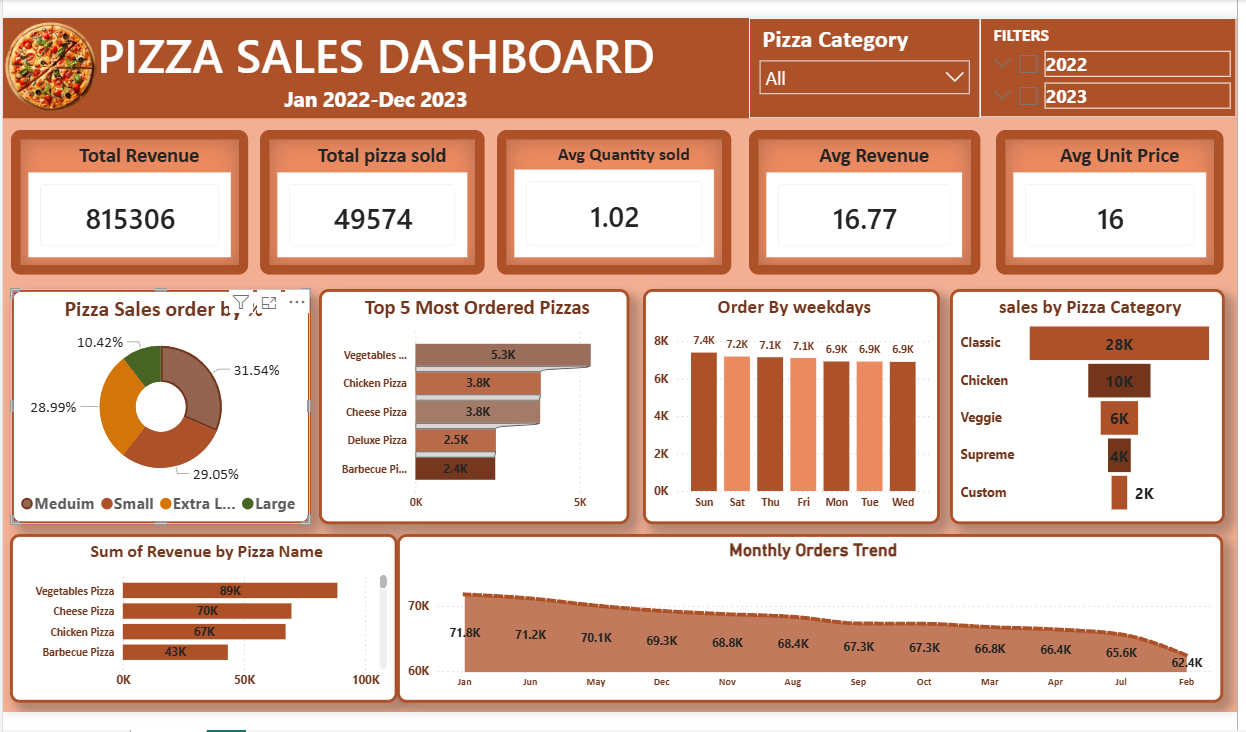

What the dashboard file says about the page in this screenshot:
{"tool":"powerbi","page":{"name":"Page 1","canvas":[1280,720],"ordinal":0},"visuals":[{"type":"textbox","box":[0,0,774,104.2],"z":0},{"type":"image","box":[0,0,100.2,104.3],"z":1000},{"type":"slicer","fields":{"Values":["Table1 (2).Pizza Category"]},"box":[774,0,239.8,104.2],"z":2000},{"type":"slicer","fields":{"Values":["Table1 (2).Year","Table1 (2).Mon Name"]},"box":[1013.7,0,266.3,102.5],"z":3000},{"type":"cardVisual","title":"Total Revenue","fields":{"Data":["Sum(Table1 (2).Revenue)"]},"box":[8.3,115.8,246.4,150.5],"z":4000},{"type":"cardVisual","title":"Avg Revenue","fields":{"Data":["Avg(Table1 (2).Revenue)"]},"box":[774,115.8,239.8,150.5],"z":5000},{"type":"cardVisual","title":"Avg  Quantity sold","fields":{"Data":["Avg(Table1 (2).Quantity Sold)"]},"box":[512.7,115.8,243.1,150.5],"z":6000},{"type":"cardVisual","title":"Avg Unit Price","fields":{"Data":["Avg(Table1 (2).Unit Price)"]},"box":[1030.3,115.8,236.5,150.5],"z":7000},{"type":"cardVisual","title":"Total pizza sold","fields":{"Data":["Sum(Table1 (2).Quantity Sold)"]},"box":[266.3,115.8,233.2,150.5],"z":8000},{"type":"donutChart","title":"Pizza Sales order by %","fields":{"Category":["Table1 (2).Pizza Size"],"Y":["Sum(Table1 (2).Quantity Sold)"]},"box":[8.2,281.2,310.6,243.5],"z":9000},{"type":"barChart","title":"Top 5 Most Ordered Pizzas","fields":{"Category":["Table1 (2).Pizza Name"],"Y":["Sum(Table1 (2).Quantity Sold)"]},"box":[328.2,281.2,322.4,243.5],"z":10000},{"type":"clusteredColumnChart","title":"Order By weekdays","fields":{"Y":["Sum(Table1 (2).Quantity Sold)"],"Category":["Table1 (2).Day Name"]},"box":[663.5,281.2,308.2,243.5],"z":11000},{"type":"funnel","title":"sales by Pizza Category","fields":{"Category":["Table1 (2).Pizza Category"],"Y":["Sum(Table1 (2).Quantity Sold)"]},"box":[982.4,281.2,284.7,243.5],"z":12000},{"type":"clusteredBarChart","fields":{"Category":["Table1 (2).Pizza Name"],"Y":["Sum(Table1 (2).Revenue)"]},"box":[6.8,535.4,402.2,175.3],"z":13000},{"type":"stackedAreaChart","title":"Monthly Orders Trend","fields":{"Category":["Table1 (2).Mon Name"],"Y":["Sum(Table1 (2).Revenue)"]},"box":[409,535.4,857.4,175.3],"z":14000}]}

Visuals, with their boxes in screenshot pixels (x1, y1, x2, y2):
textbox: (left=3, top=16, right=746, bottom=116)
image: (left=3, top=16, right=99, bottom=116)
slicer - Table1 (2).Pizza Category: (left=746, top=16, right=976, bottom=116)
slicer - Table1 (2).Year x Table1 (2).Mon Name: (left=976, top=16, right=1232, bottom=115)
"Total Revenue" cardVisual: (left=11, top=127, right=248, bottom=272)
"Avg Revenue" cardVisual: (left=746, top=127, right=976, bottom=272)
"Avg  Quantity sold" cardVisual: (left=495, top=127, right=729, bottom=272)
"Avg Unit Price" cardVisual: (left=992, top=127, right=1219, bottom=272)
"Total pizza sold" cardVisual: (left=259, top=127, right=483, bottom=272)
"Pizza Sales order by %" donutChart: (left=11, top=286, right=309, bottom=520)
"Top 5 Most Ordered Pizzas" barChart: (left=318, top=286, right=628, bottom=520)
"Order By weekdays" clusteredColumnChart: (left=640, top=286, right=936, bottom=520)
"sales by Pizza Category" funnel: (left=946, top=286, right=1220, bottom=520)
clusteredBarChart - Table1 (2).Pizza Name x Sum(Table1 (2).Revenue): (left=10, top=530, right=396, bottom=698)
"Monthly Orders Trend" stackedAreaChart: (left=396, top=530, right=1219, bottom=698)
